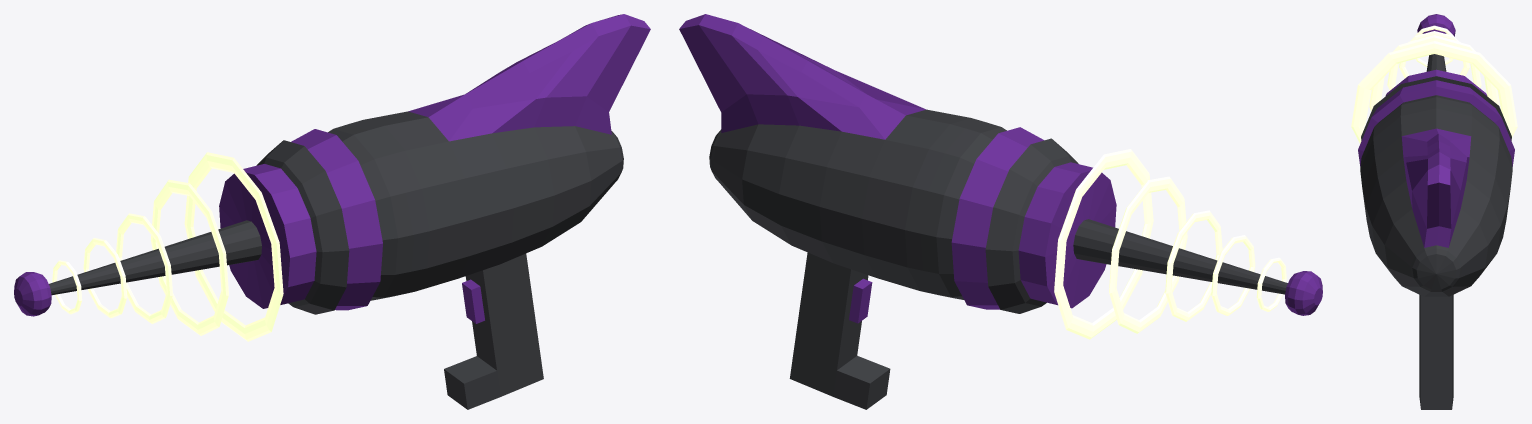
Rendered from LASER GUN.fbx.
3 views of the same model, side by side, from view 1: azimuth 30°, elevation 25°; view 2: azimuth 150°, elevation 25°; view 3: azimuth 270°, elevation 25° (orthographic). The views are drawn at different scales.
Parts seen in each view (by area): view 1: Torus.004; view 2: Torus.004; view 3: Torus.004.
Boxes of the visible parts, left/top/right/bottom form: Torus.004: left=14, top=14, right=650, bottom=409; Torus.004: left=679, top=14, right=1322, bottom=409; Torus.004: left=1351, top=14, right=1517, bottom=409.
Bounding box in the file's own units: 1001 × 528 × 272.
